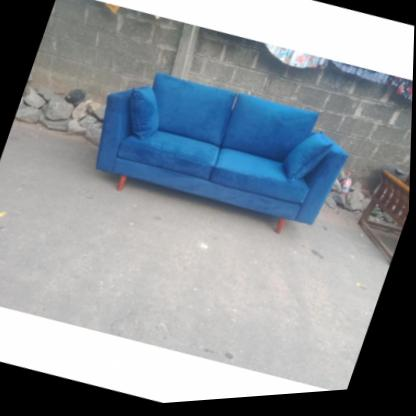Sofa: (76, 48, 362, 262)
